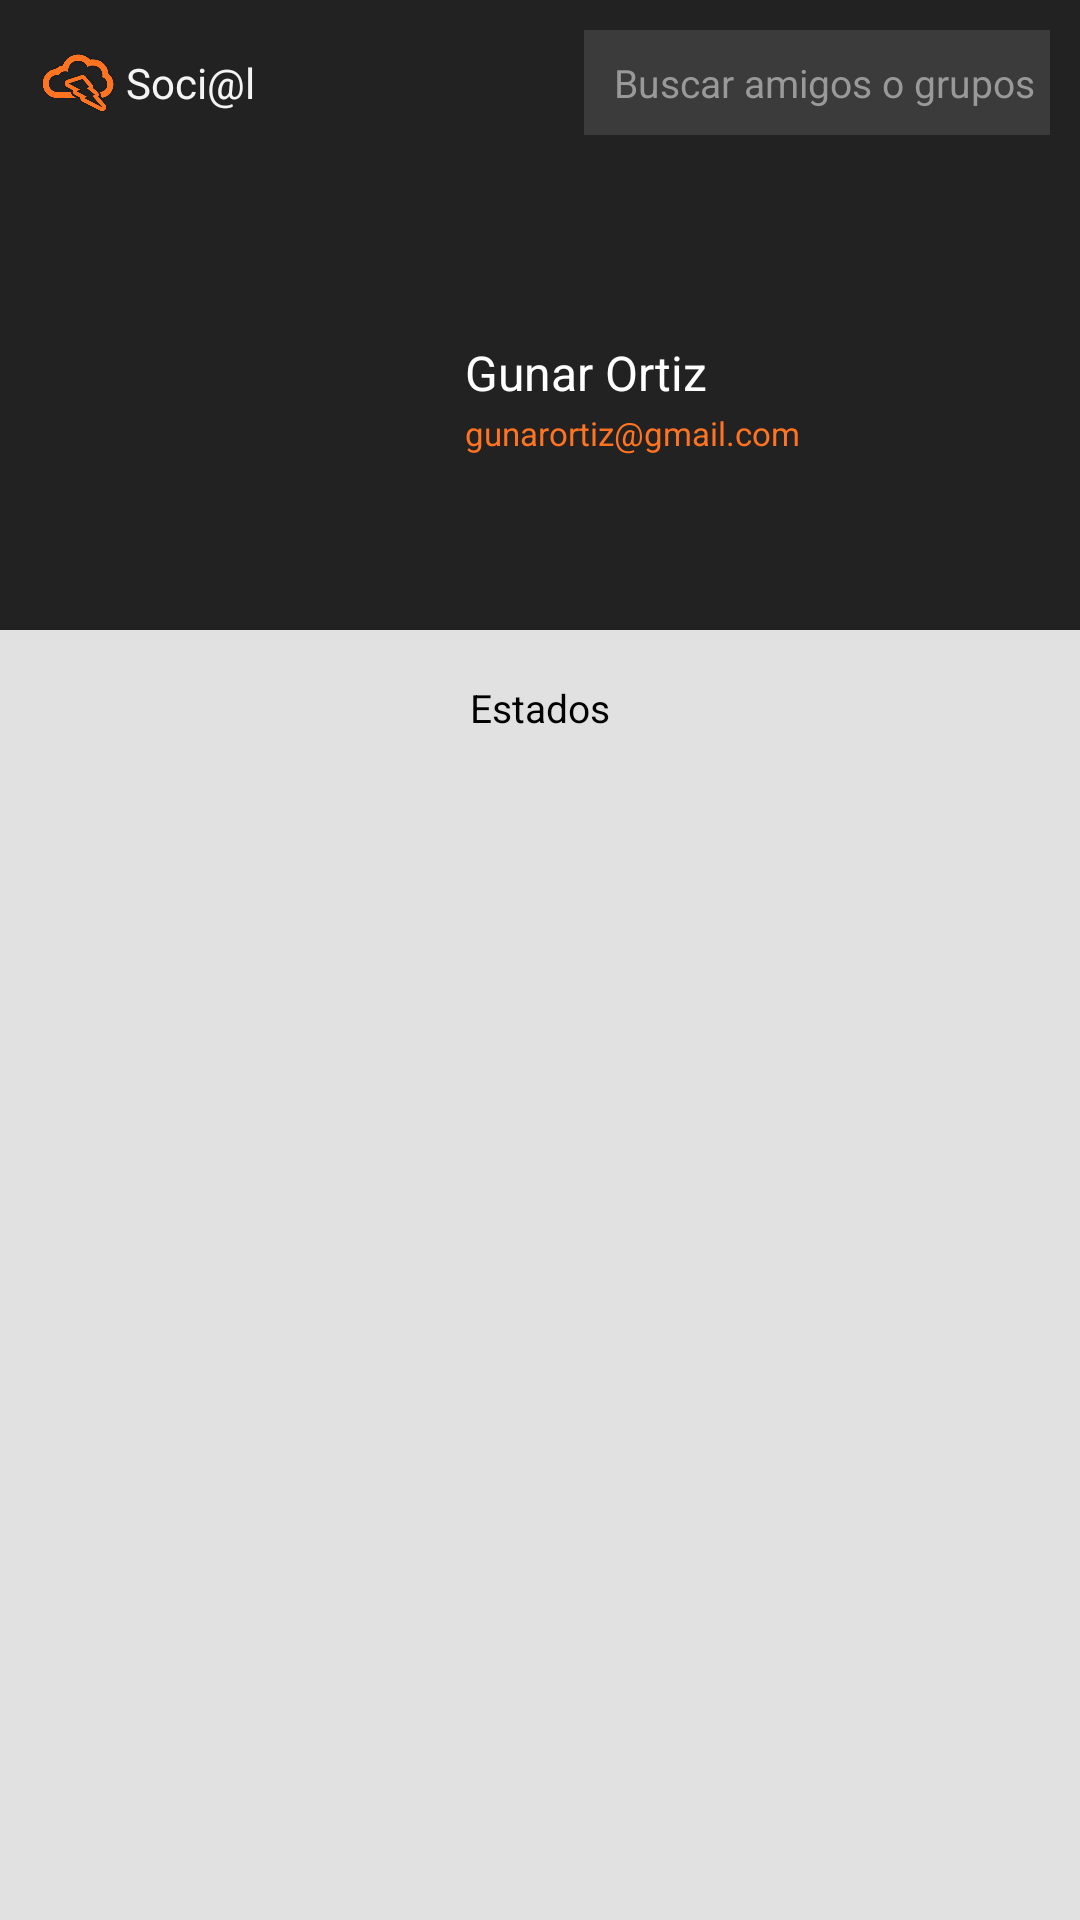

Named icons in this screenshot (1080px×1920px) and their centers, point (x, y):
nube naranja: point (78, 82)
